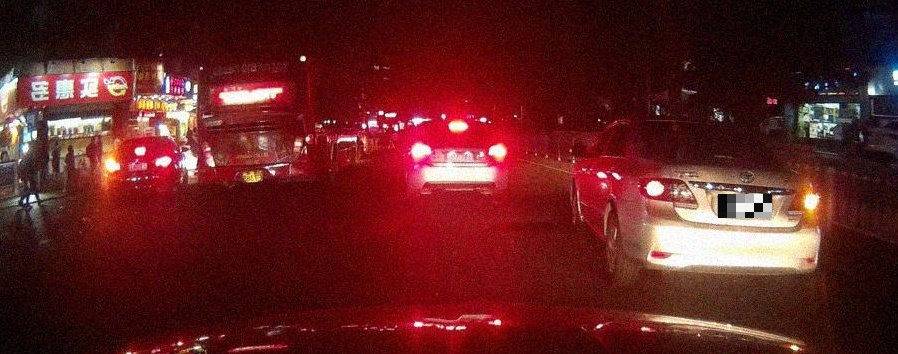L_light: (638, 176, 699, 210), (199, 141, 216, 167), (411, 142, 432, 162), (106, 159, 120, 173)
R_light: (785, 190, 819, 216), (290, 134, 304, 163), (488, 143, 507, 163), (155, 156, 172, 168)
T_light: (448, 120, 467, 132), (714, 154, 735, 159), (135, 147, 146, 156), (244, 56, 265, 60)
night-brake: (408, 119, 509, 198)
night-left: (106, 136, 173, 201)
night-no: (197, 54, 317, 196)
night-right: (631, 118, 821, 291)
plate_1: (718, 194, 772, 218)
